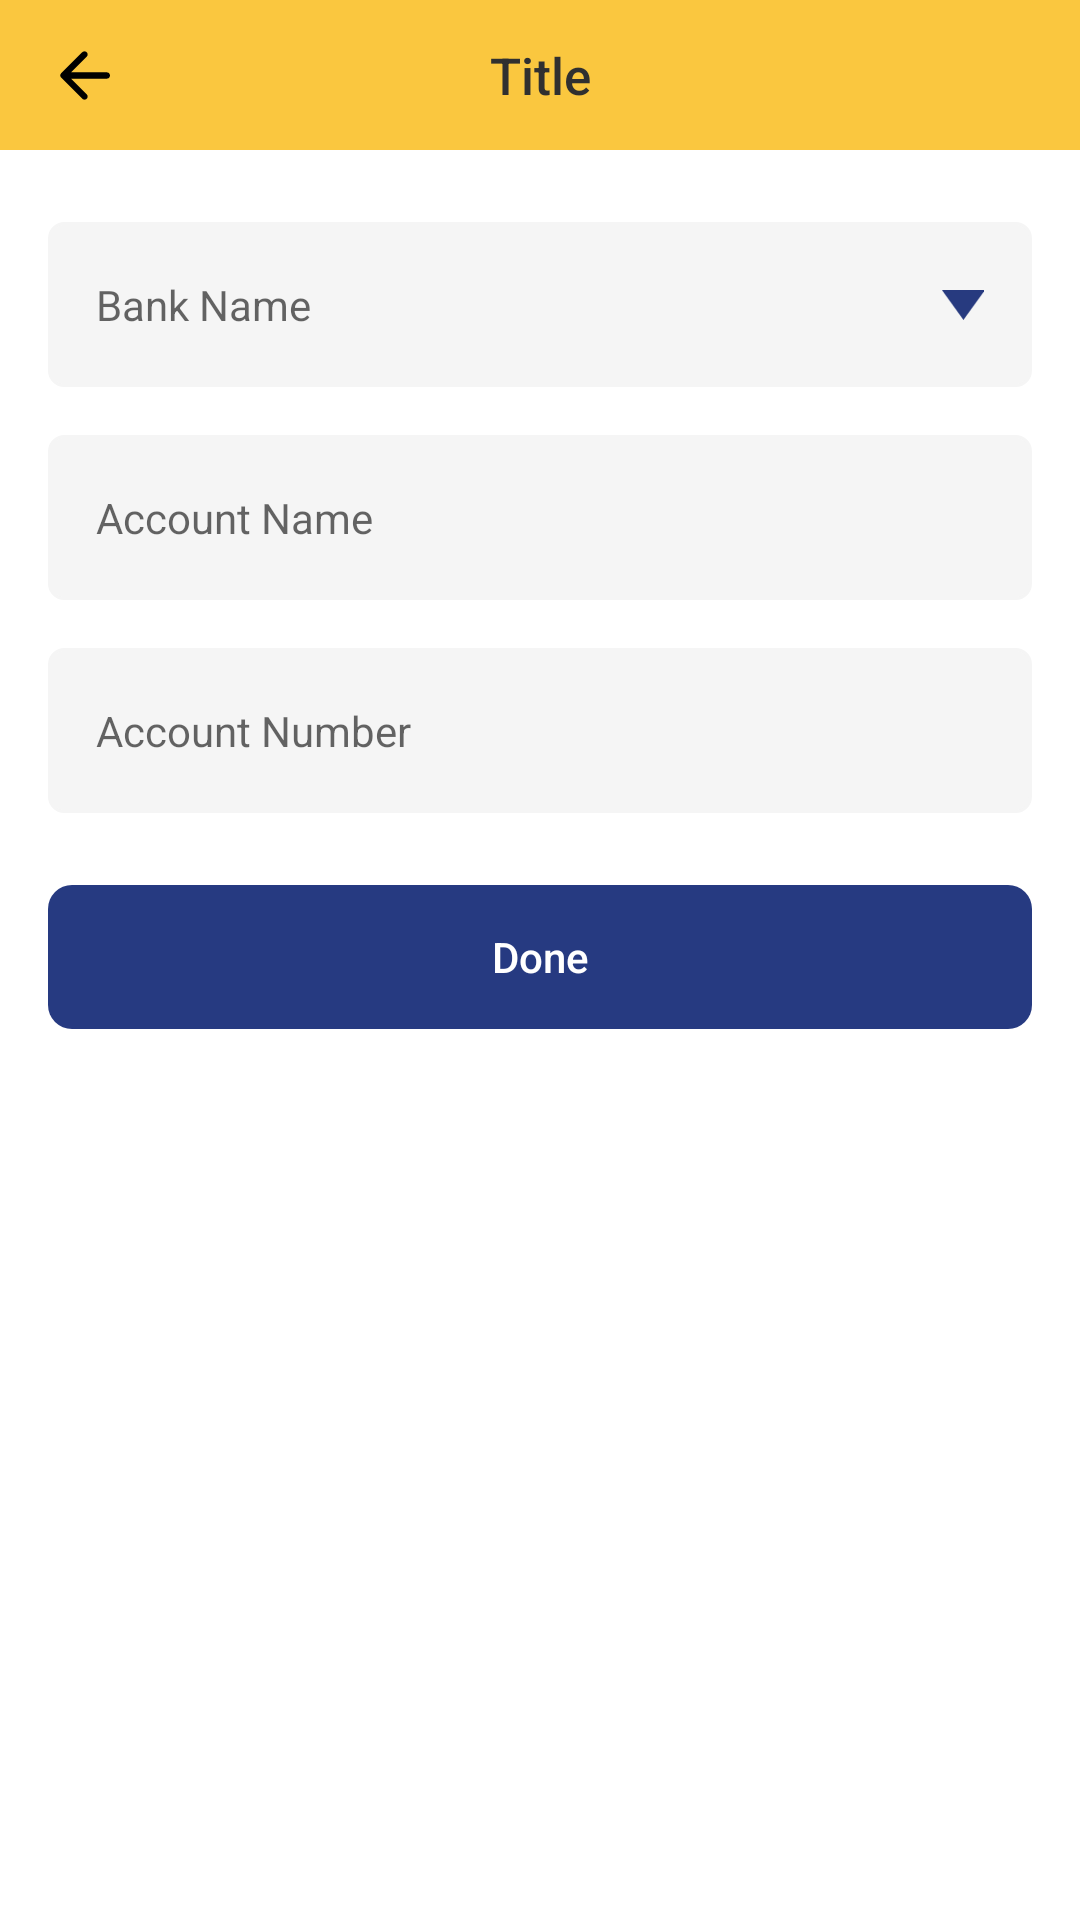

Icon bounding boxes for this 1080px x 1920px phone screenshot, format (x1, y1, x2, y2):
arrow bottom: (942, 290, 984, 320)
